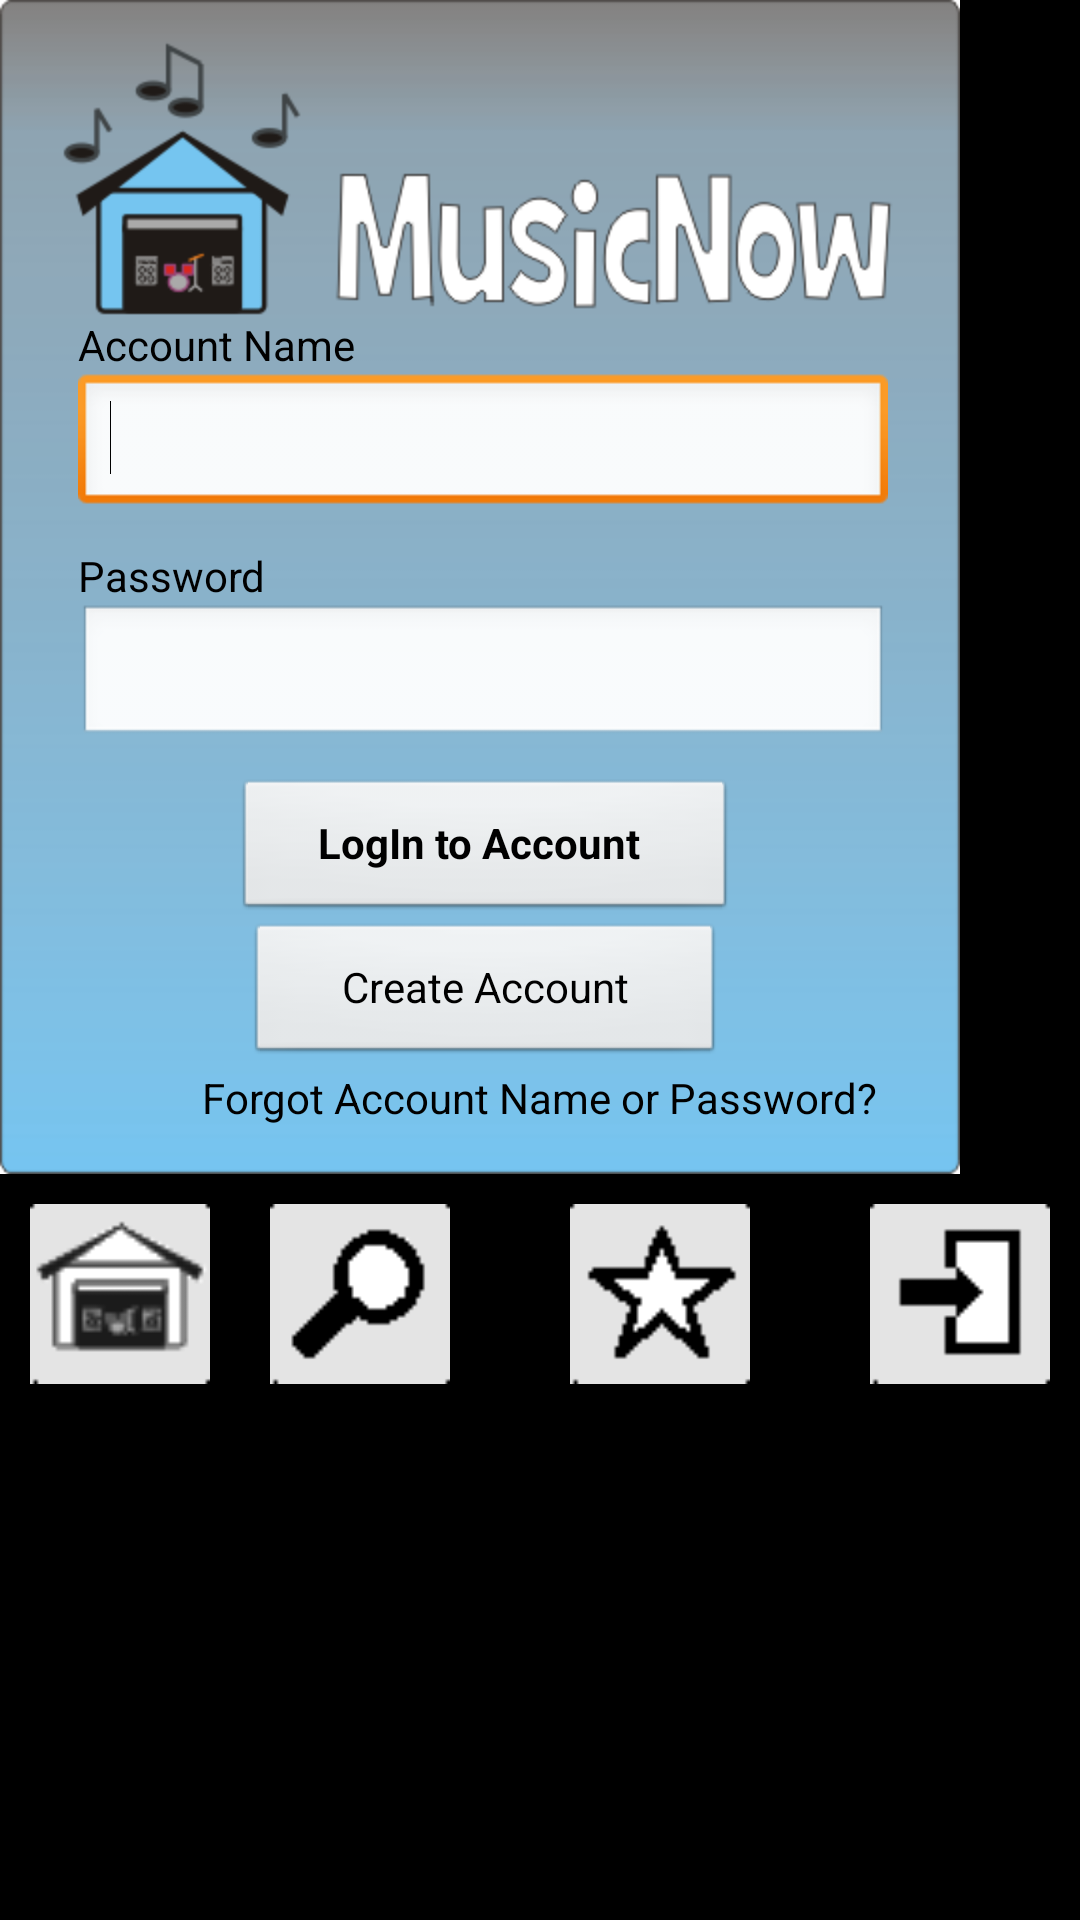

Locate icon controls on the screen. Image size 1080 x 1920, boxes as (x1, y1, x2, y2).
Favorites: (570, 1204, 750, 1384)
garage: (30, 1204, 210, 1384)
Login: (870, 1204, 1050, 1384)
Search Button: (270, 1204, 450, 1384)
